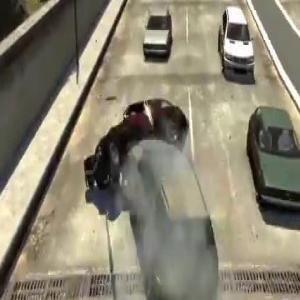serious: (84, 95, 224, 300)
